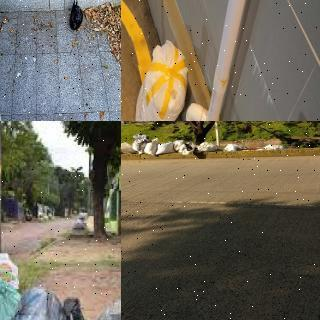Garbage: (128, 28, 191, 121), (7, 289, 69, 320), (0, 273, 23, 320), (0, 248, 23, 291), (67, 0, 84, 30), (131, 132, 150, 154), (144, 138, 160, 157), (198, 142, 223, 153), (224, 143, 251, 152), (156, 142, 175, 154), (121, 142, 136, 154)
